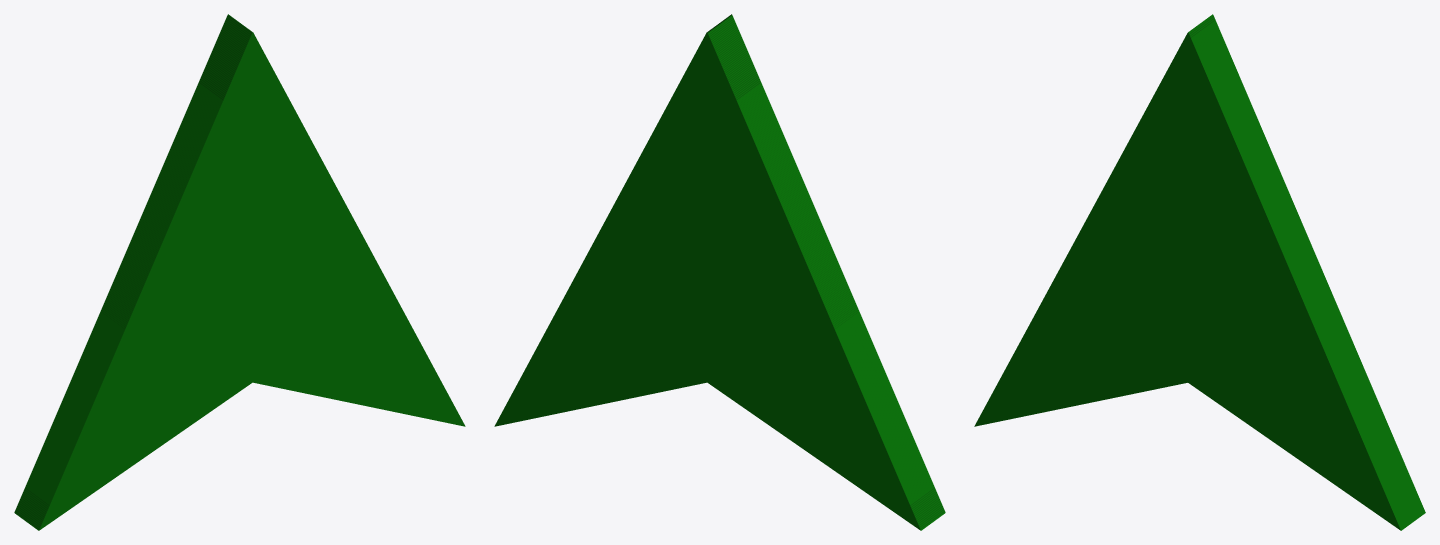
File: Arrow-Up.obj
The picture shows the model from 3 angles, left to right: view 1: azimuth 30°, elevation 25°; view 2: azimuth 150°, elevation 25°; view 3: azimuth 330°, elevation 25°; orthographic projection.
Visible parts, largest first — view 1: Object.1; view 2: Object.1; view 3: Object.1.
Boxes of the visible parts, bbox=[...] form: Object.1: bbox=[14, 14, 465, 530]; Object.1: bbox=[494, 14, 945, 530]; Object.1: bbox=[974, 14, 1425, 530].
Size of the model in its own units: 152 by 152 by 15.24.
1 material, 1 textured.
